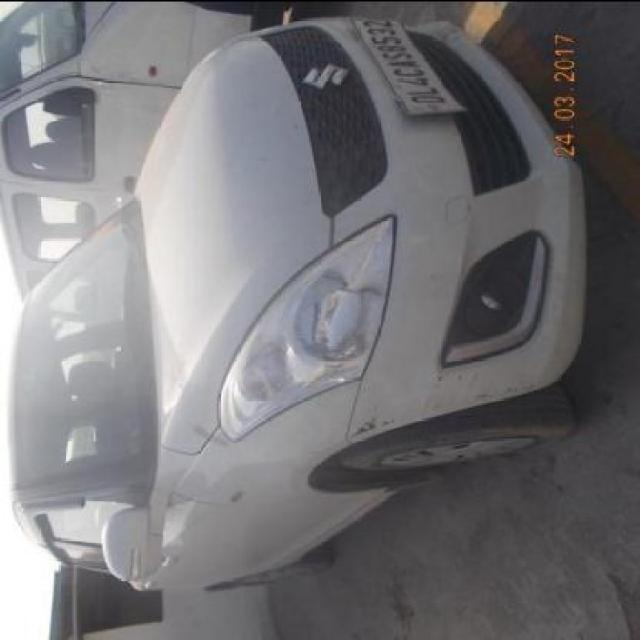damage: (417, 365, 546, 409), (352, 412, 387, 434)
